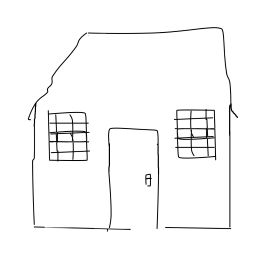closed_window: (172, 100, 222, 165), (44, 106, 94, 167)
door: (100, 122, 170, 236)
single_line_roof: (13, 24, 247, 106)
wall: (26, 98, 236, 238)
